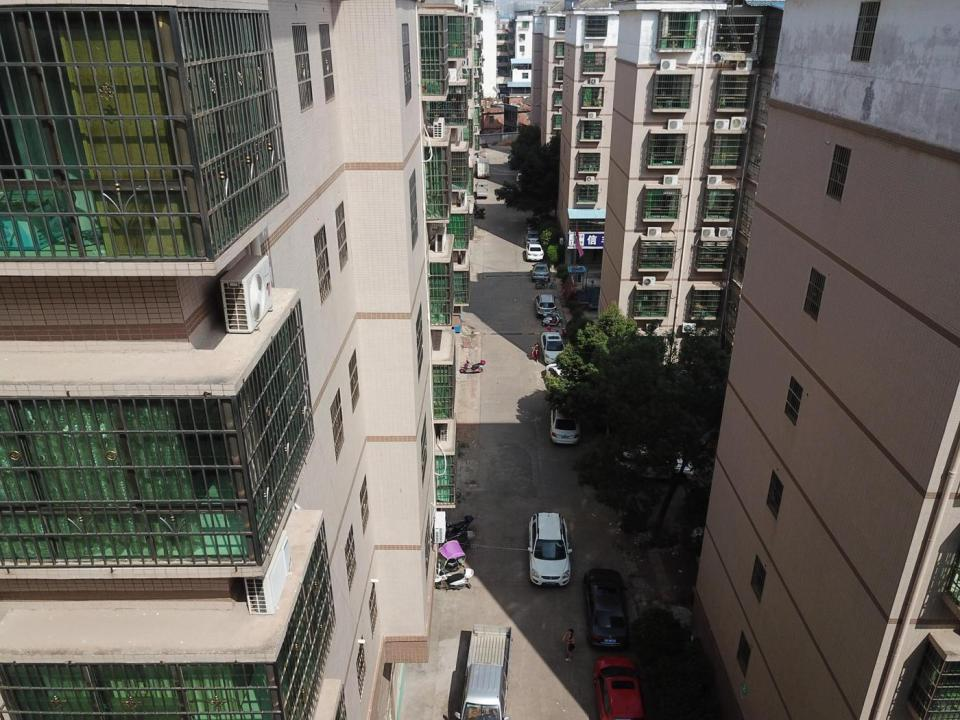car: (593, 656, 643, 720), (530, 512, 572, 587), (587, 568, 625, 648), (550, 398, 580, 446), (545, 363, 574, 396), (540, 331, 566, 364), (533, 293, 557, 317), (526, 243, 544, 260), (532, 262, 550, 278), (516, 173, 527, 190), (526, 231, 539, 244)
truck: (476, 157, 490, 178), (475, 182, 488, 198)
van: (453, 626, 510, 720)
